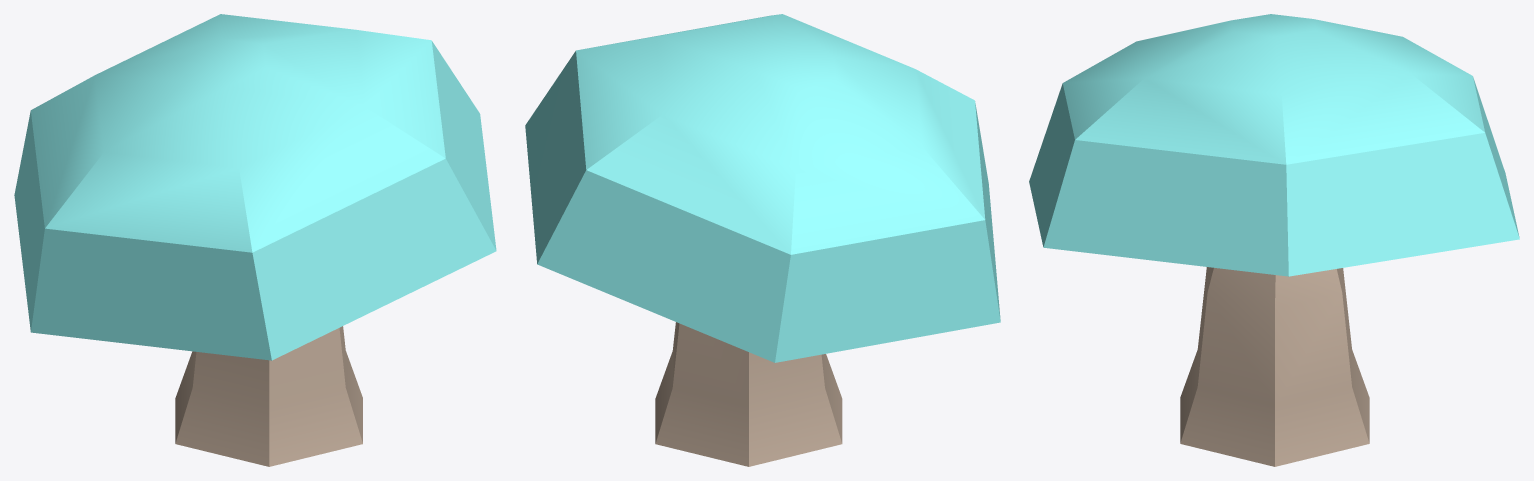
File: Vegetation_Mushroom_Blue_04.fbx
3 renders of one model, left to right at view 1: azimuth 30°, elevation 25°; view 2: azimuth 150°, elevation 25°; view 3: azimuth 270°, elevation 25°, orthographic.
Parts seen in each view (by area): view 1: Vegetation_Mushroom_Blue_04; view 2: Vegetation_Mushroom_Blue_04; view 3: Vegetation_Mushroom_Blue_04.
Part boxes in pixels (x1,y1,x2,y2): Vegetation_Mushroom_Blue_04: (14,14,496,466); Vegetation_Mushroom_Blue_04: (525,14,1000,466); Vegetation_Mushroom_Blue_04: (1029,14,1519,466).
Bounding box in the file's own units: 16.95 × 13.2 × 15.41.
